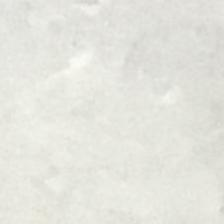Non_Crack: (27, 14, 210, 178)
